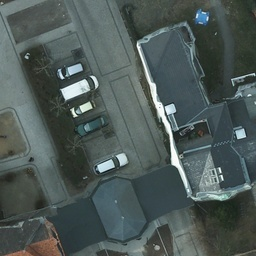car: (95, 154, 130, 177), (78, 115, 112, 135), (58, 61, 85, 82), (69, 99, 96, 117)
van: (59, 75, 99, 104)
